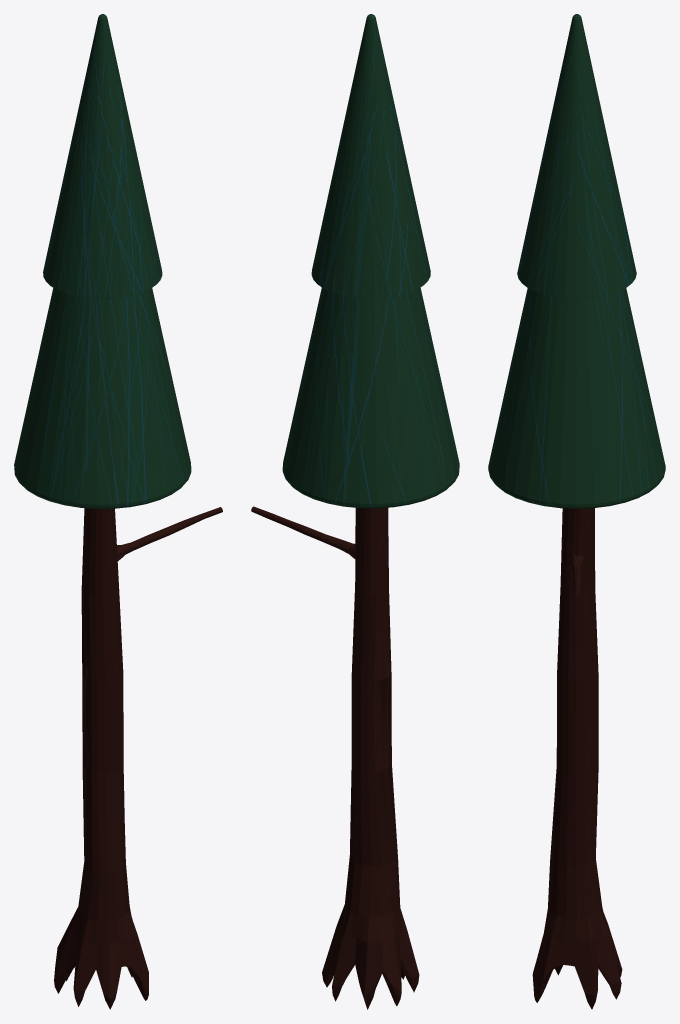
The model's file is tall_pine.glb.
3 views of the same model, side by side, from view 1: azimuth 30°, elevation 25°; view 2: azimuth 150°, elevation 25°; view 3: azimuth 270°, elevation 25° (orthographic).
Visible parts, largest first — view 1: trunk; view 2: trunk; view 3: trunk.
Boxes of the visible parts, x1,y1,x2,y2 form: trunk: [14, 14, 222, 1009]; trunk: [251, 14, 459, 1009]; trunk: [488, 14, 665, 1009].
Size of the model in its own units: 6.91 by 32.94 by 5.43.
Materials: 1 (1 with a texture image).
